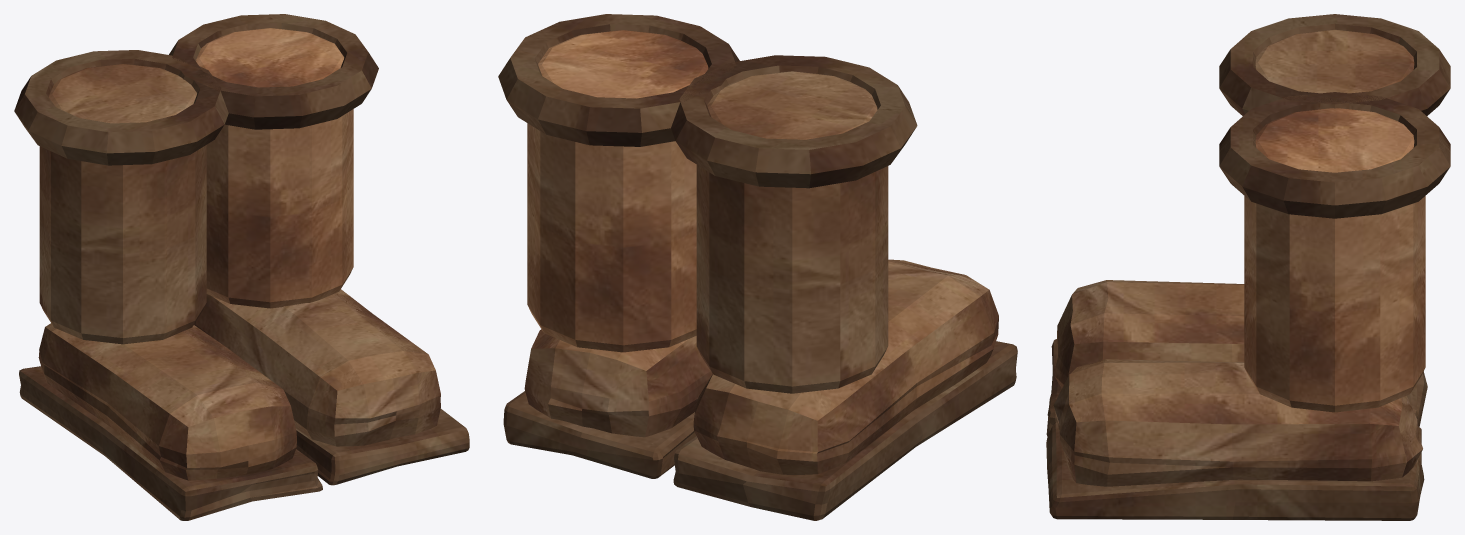
File: boots_leather.glb
The picture shows the model from 3 angles, left to right: view 1: azimuth 30°, elevation 25°; view 2: azimuth 150°, elevation 25°; view 3: azimuth 270°, elevation 25°; orthographic projection. The views are drawn at different scales.
Parts seen in each view (by area): view 1: model; view 2: model; view 3: model.
Boxes of the visible parts, <box> form: model: <box>14,14,469,520</box>; model: <box>498,14,1017,520</box>; model: <box>1046,14,1450,520</box>.
Bounding box in the file's own units: 0.256 × 0.2359 × 0.2453.
3 materials, 3 textured.
